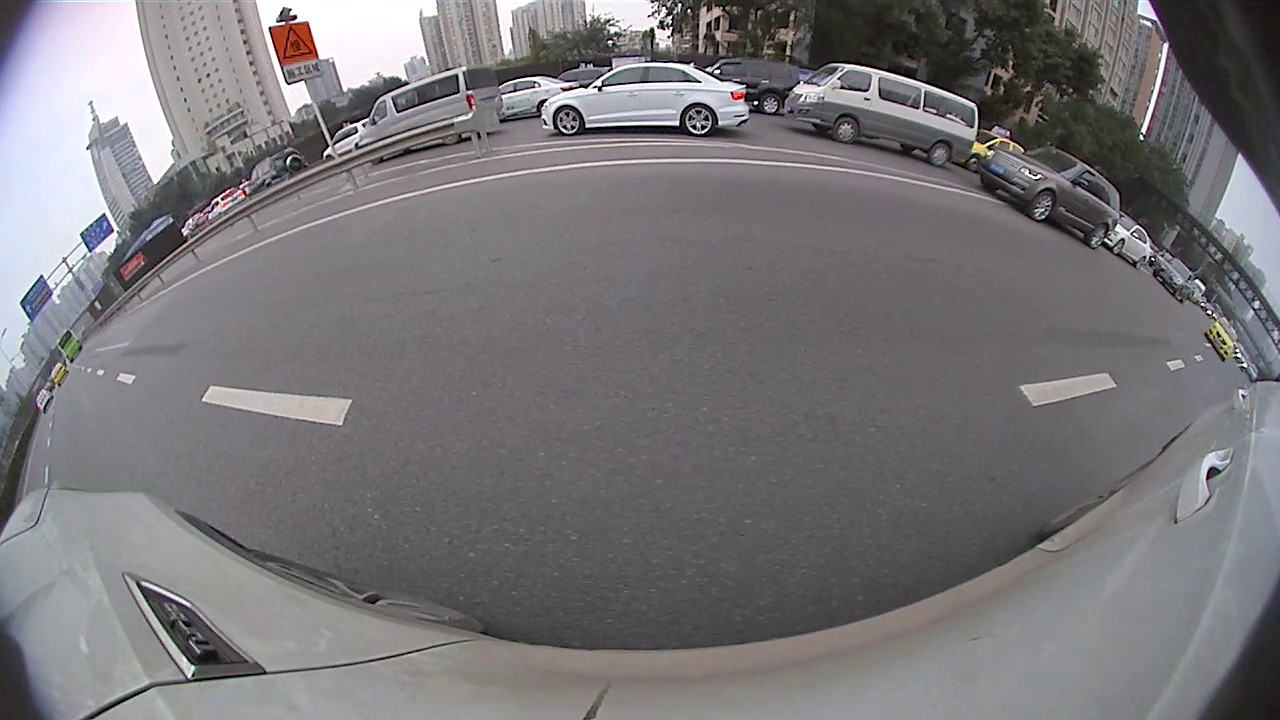car: (784, 62, 979, 169), (540, 62, 751, 138), (980, 145, 1121, 251), (358, 65, 503, 164), (705, 58, 800, 116), (487, 75, 581, 125), (248, 146, 307, 199), (1099, 215, 1150, 272), (1152, 257, 1193, 306), (1204, 315, 1240, 363)
front: (554, 107, 584, 137), (834, 119, 859, 144), (1030, 195, 1055, 220), (1113, 239, 1123, 255)
rear: (684, 105, 715, 134), (929, 144, 951, 165), (1089, 225, 1106, 248), (761, 95, 779, 116), (1136, 259, 1146, 270)
